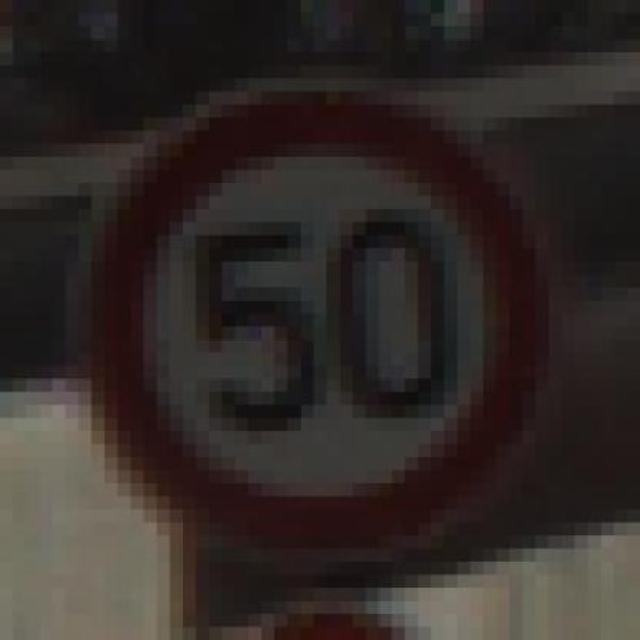50 mph speed limit: (66, 52, 548, 576)
